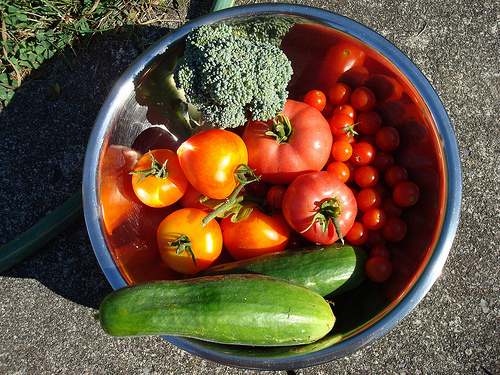cucumber: (92, 272, 336, 349), (210, 245, 366, 299)
